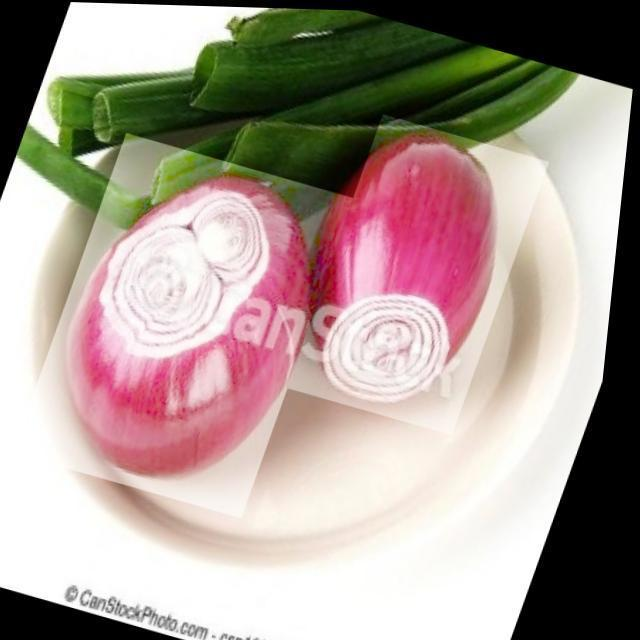Onion: (16, 130, 364, 518), (290, 110, 555, 434)
